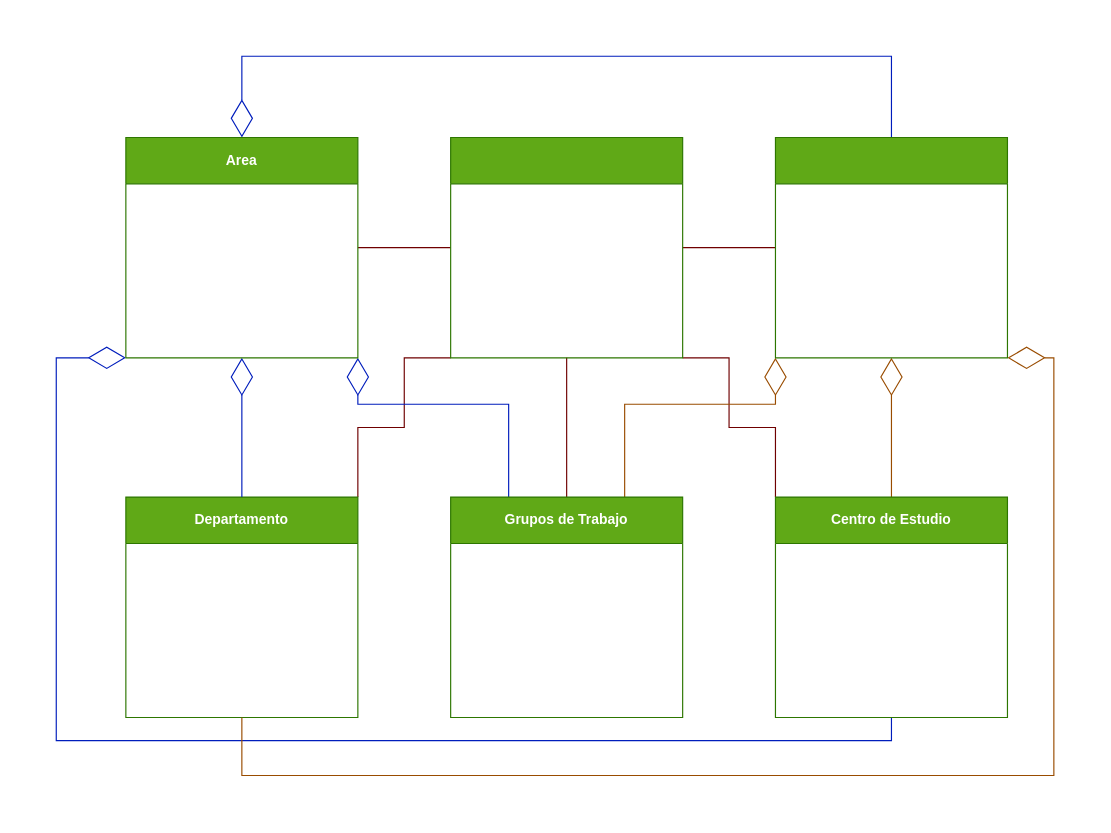
Image size: 1111x833. Some labels were removed from this diagram. Here are the shapes that lost their labels. From the top down, the centre of each, then its label:
At (566,247): "Usuario".
At (890,247): "Dirección".
